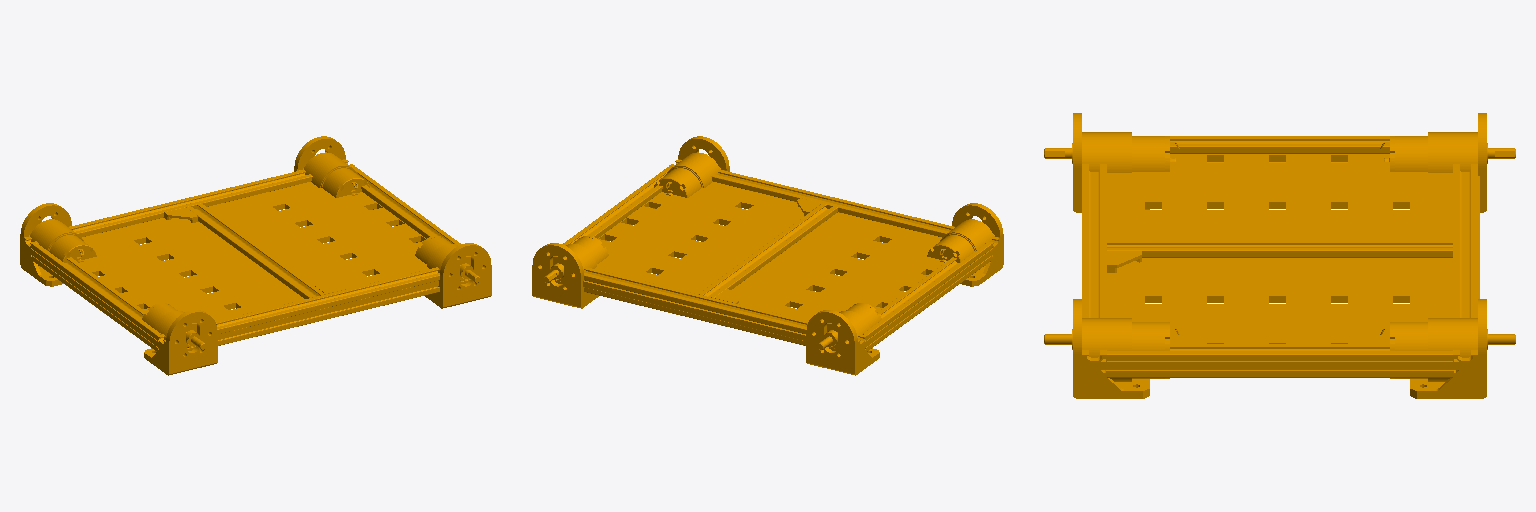
URDF robot description (my_mecanum_bot):
<?xml version="1.0"?>
<robot name="my_mecanum_bot">

  <link name="base_link">
    
    <inertial>
      <origin xyz="0 0 0" rpy="0 0 0"/> <mass value="5.0"/>
      <inertia ixx="0.01997" ixy="0.0" ixz="0.0"
               iyy="0.01534" iyz="0.0"
               izz="0.02871"/>
    </inertial>

    <collision>
      <origin xyz="0 0 0" rpy="0 0 0"/>
      <geometry>
        <mesh filename="meshes/chasis_collision.stl"/>
      </geometry>
    </collision>

    <visual>
      <origin xyz="0 0 0" rpy="0 0 0"/>
      <geometry>
        <mesh filename="meshes/chasis_visual.stl"/>
      </geometry>
    </visual>
  </link>

  <link name="wheel_fl_link">
    <inertial>
      <origin xyz="0 0 0" rpy="0 0 0"/> 
      <mass value="0.1"/>
      <inertia ixx="0.0000175" ixy="0.0" ixz="0.0"
               iyy="0.00002"   iyz="0.0"
               izz="0.0000175"/>
    </inertial>
    <collision>
      <origin xyz="0 0 0" rpy="0 0 1.5708"/> 
      <geometry>
        <mesh filename="meshes/wheel_collision.stl"/>
      </geometry>
    </collision>
    <visual>
      <origin xyz="0 0 0" rpy="0 0 1.5708"/>
      <geometry>
        <mesh filename="meshes/wheel_visual.stl"/>
      </geometry>
    </visual>
  </link>
  
  <joint name="wheel_fl_joint" type="revolute">
    <parent link="base_link"/>
    <child link="wheel_fl_link"/>
    <origin xyz="0.085 0.1 0.0145" rpy="0 0 0"/> <axis xyz="0 1 0"/>
    <limit effort="10.0" velocity="100.0"/>
  </joint>

  <link name="wheel_fr_link">
    <inertial>
      <origin xyz="0 0 0" rpy="0 0 0"/> 
      <mass value="0.1"/>
      <inertia ixx="0.0000175" ixy="0.0" ixz="0.0"
               iyy="0.00002"   iyz="0.0"
               izz="0.0000175"/>
    </inertial>
    <collision>
      <origin xyz="0 0 0" rpy="0 0 1.5708"/> 
      <geometry>
        <mesh filename="meshes/wheel_collision.stl"/>
      </geometry>
    </collision>
    <visual>
      <origin xyz="0 0 0" rpy="0 0 1.5708"/>
      <geometry>
        <mesh filename="meshes/wheel_visual.stl"/>
      </geometry>
    </visual>
  </link>
  
  <joint name="wheel_fr_joint" type="revolute">
    <parent link="base_link"/>
    <child link="wheel_fr_link"/>
    <origin xyz="0.085 -0.1 0.0145" rpy="0 0 0"/> <axis xyz="0 1 0"/>
    <limit effort="10.0" velocity="100.0"/>
  </joint>

  <link name="wheel_rl_link">
    <inertial>
      <origin xyz="0 0 0" rpy="0 0 0"/> 
      <mass value="0.1"/>
      <inertia ixx="0.0000175" ixy="0.0" ixz="0.0"
               iyy="0.00002"   iyz="0.0"
               izz="0.0000175"/>
    </inertial>
    <collision>
      <origin xyz="0 0 0" rpy="0 0 1.5708"/> 
      <geometry>
        <mesh filename="meshes/wheel_collision.stl"/>
      </geometry>
    </collision>
    <visual>
      <origin xyz="0 0 0" rpy="0 0 1.5708"/>
      <geometry>
        <mesh filename="meshes/wheel_visual.stl"/>
      </geometry>
    </visual>
  </link>
  
  <joint name="wheel_rl_joint" type="revolute">
    <parent link="base_link"/>
    <child link="wheel_rl_link"/>
    <origin xyz="-0.085 0.1 0.0145" rpy="0 0 0"/> <axis xyz="0 1 0"/>
    <limit effort="10.0" velocity="100.0"/>
  </joint>

  <link name="wheel_rr_link">
    <inertial>
      <origin xyz="0 0 0" rpy="0 0 0"/> 
      <mass value="0.1"/>
      <inertia ixx="0.0000175" ixy="0.0" ixz="0.0"
               iyy="0.00002"   iyz="0.0"
               izz="0.0000175"/>
    </inertial>
    <collision>
      <origin xyz="0 0 0" rpy="0 0 1.5708"/> 
      <geometry>
        <mesh filename="meshes/wheel_collision.stl"/>
      </geometry>
    </collision>
    <visual>
      <origin xyz="0 0 0" rpy="0 0 1.5708"/>
      <geometry>
        <mesh filename="meshes/wheel_visual.stl"/>
      </geometry>
    </visual>
  </link>
  
  <joint name="wheel_rr_joint" type="revolute">
    <parent link="base_link"/>
    <child link="wheel_rr_link"/>
    <origin xyz="-0.085 -0.1 0.0145" rpy="0 0 0"/> <axis xyz="0 1 0"/>
    <limit effort="10.0" velocity="100.0"/>
  </joint>

</robot>

--- Render facts (derived) ---
The picture shows the robot from 3 angles, left to right: view 1: azimuth 30°, elevation 25°; view 2: azimuth 150°, elevation 25°; view 3: azimuth 270°, elevation 25°; orthographic projection.
Model my_mecanum_bot with 5 links and 4 joints (4 revolute), rooted at base_link, posed all joints at 0.
Links seen in each view (by area): view 1: base_link; view 2: base_link; view 3: base_link.
Boxes of the visible links, <box> form: base_link: <box>20,136,491,375</box>; base_link: <box>532,136,1003,375</box>; base_link: <box>1044,113,1515,398</box>.
Size in the robot's own frame: 0.1878 by 0.1709 by 0.0322 metres.
Meshes: 2 distinct files referenced, 1 mesh visuals loaded (1 binary STL); not drawn: 4 (reference not matched to a file when rendering).